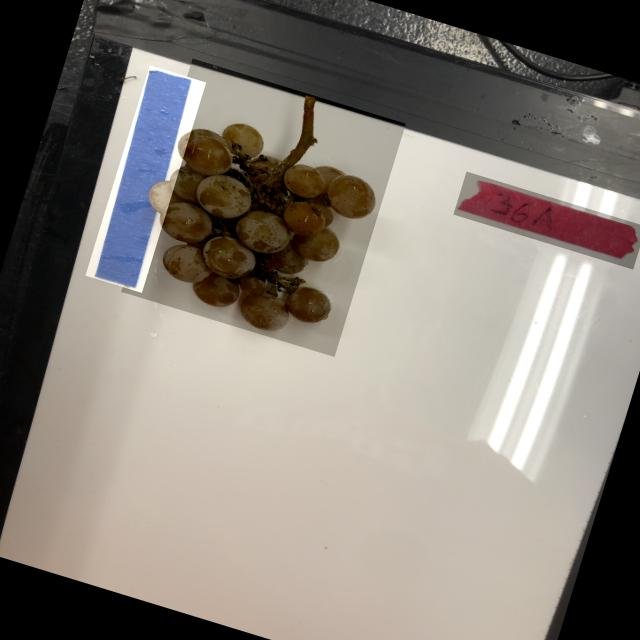grape_cluster: (120, 59, 406, 358)
index: (452, 171, 640, 269)
measure_label: (84, 65, 206, 293)
